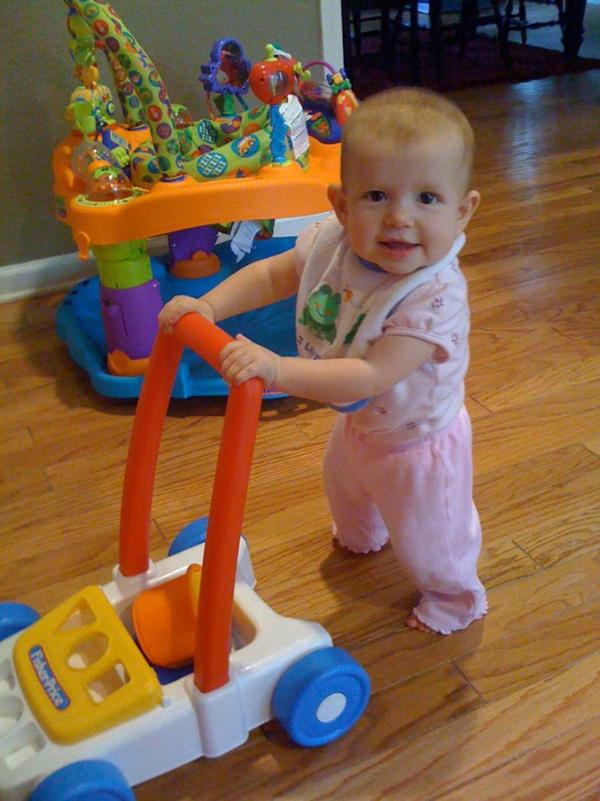person: (159, 83, 486, 636)
